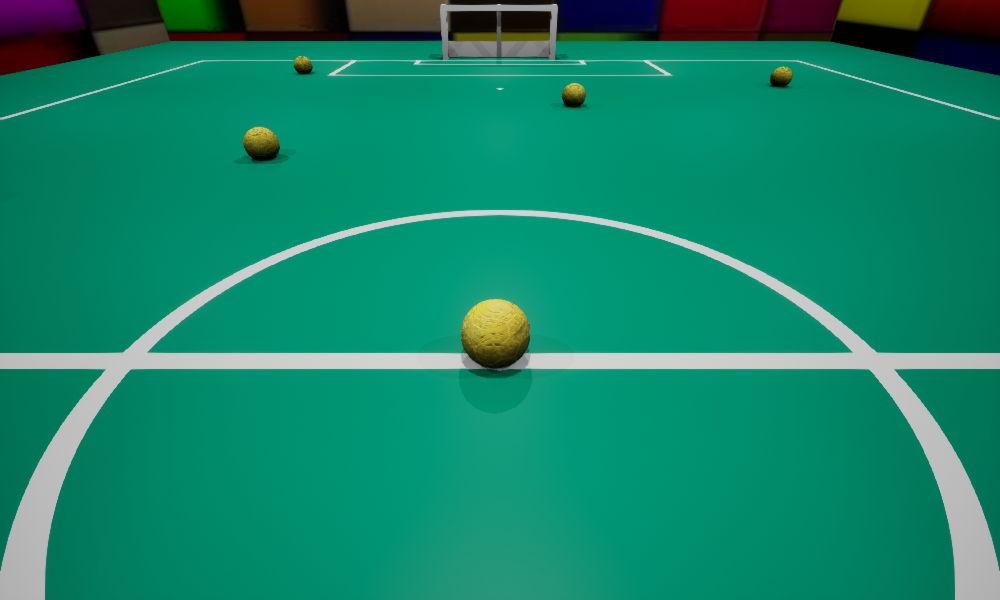b: (461, 299, 529, 367), (243, 127, 279, 159), (562, 83, 585, 106), (770, 66, 792, 86), (294, 56, 312, 73)
g: (440, 4, 557, 59)
